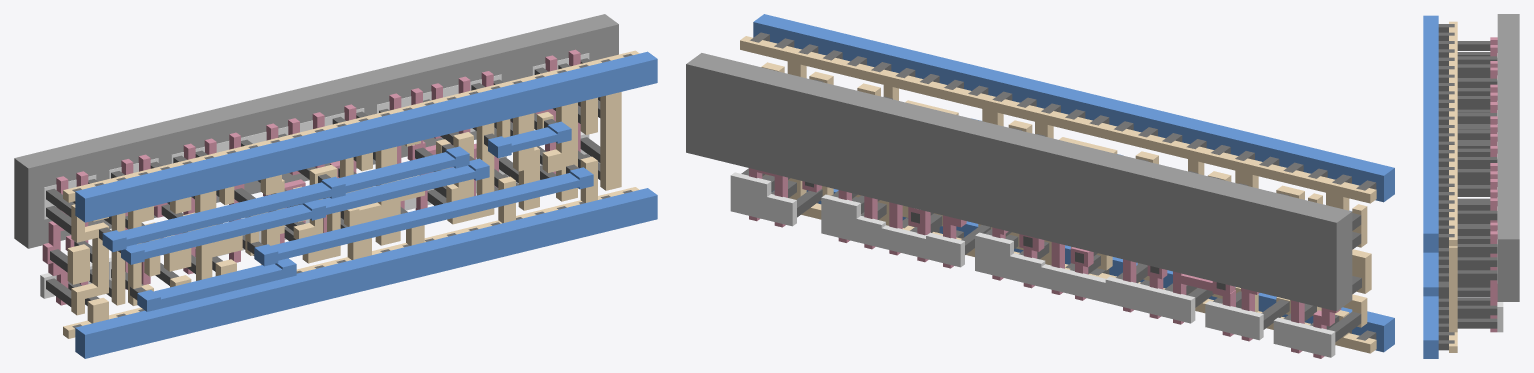
The model's file is sky130_fd_sc_hd__edfxbp_1.gds.gltf.
The picture shows the model from 3 angles, left to right: view 1: azimuth 30°, elevation 25°; view 2: azimuth 150°, elevation 25°; view 3: azimuth 270°, elevation 25°; orthographic projection. The views are drawn at different scales.
Visible parts, largest first — view 1: sky130_fd_sc_hd__edfxbp_1_met1, sky130_fd_sc_hd__edfxbp_1_li1, sky130_fd_sc_hd__edfxbp_1_nwell, sky130_fd_sc_hd__edfxbp_1_poly, sky130_fd_sc_hd__edfxbp_1_licon, sky130_fd_sc_hd__edfxbp_1_diff, sky130_fd_sc_hd__edfxbp_1_mcon; view 2: sky130_fd_sc_hd__edfxbp_1_nwell, sky130_fd_sc_hd__edfxbp_1_met1, sky130_fd_sc_hd__edfxbp_1_li1, sky130_fd_sc_hd__edfxbp_1_diff, sky130_fd_sc_hd__edfxbp_1_poly, sky130_fd_sc_hd__edfxbp_1_licon, sky130_fd_sc_hd__edfxbp_1_mcon; view 3: sky130_fd_sc_hd__edfxbp_1_licon, sky130_fd_sc_hd__edfxbp_1_nwell, sky130_fd_sc_hd__edfxbp_1_met1, sky130_fd_sc_hd__edfxbp_1_mcon, sky130_fd_sc_hd__edfxbp_1_li1, sky130_fd_sc_hd__edfxbp_1_poly, sky130_fd_sc_hd__edfxbp_1_diff.
Boxes of the visible parts, bbox=[...] form: sky130_fd_sc_hd__edfxbp_1_met1: bbox=[75, 51, 657, 358]; sky130_fd_sc_hd__edfxbp_1_li1: bbox=[63, 50, 639, 338]; sky130_fd_sc_hd__edfxbp_1_nwell: bbox=[14, 14, 618, 248]; sky130_fd_sc_hd__edfxbp_1_poly: bbox=[42, 49, 580, 305]; sky130_fd_sc_hd__edfxbp_1_licon: bbox=[46, 58, 600, 306]; sky130_fd_sc_hd__edfxbp_1_diff: bbox=[40, 53, 589, 298]; sky130_fd_sc_hd__edfxbp_1_mcon: bbox=[72, 53, 632, 328]; sky130_fd_sc_hd__edfxbp_1_nwell: bbox=[686, 53, 1352, 311]; sky130_fd_sc_hd__edfxbp_1_met1: bbox=[753, 14, 1394, 352]; sky130_fd_sc_hd__edfxbp_1_li1: bbox=[740, 36, 1376, 353]; sky130_fd_sc_hd__edfxbp_1_diff: bbox=[730, 172, 1335, 357]; sky130_fd_sc_hd__edfxbp_1_poly: bbox=[749, 168, 1341, 358]; sky130_fd_sc_hd__edfxbp_1_licon: bbox=[741, 79, 1361, 341]; sky130_fd_sc_hd__edfxbp_1_mcon: bbox=[750, 32, 1376, 340]; sky130_fd_sc_hd__edfxbp_1_licon: bbox=[1457, 41, 1497, 328]; sky130_fd_sc_hd__edfxbp_1_nwell: bbox=[1497, 14, 1519, 301]; sky130_fd_sc_hd__edfxbp_1_met1: bbox=[1423, 15, 1438, 358]; sky130_fd_sc_hd__edfxbp_1_mcon: bbox=[1438, 24, 1454, 350]; sky130_fd_sc_hd__edfxbp_1_li1: bbox=[1449, 21, 1457, 352]; sky130_fd_sc_hd__edfxbp_1_poly: bbox=[1490, 37, 1497, 332]; sky130_fd_sc_hd__edfxbp_1_diff: bbox=[1497, 53, 1503, 332].
Bounding box in the file's own units: 12.34 × 3.2 × 2.24.
